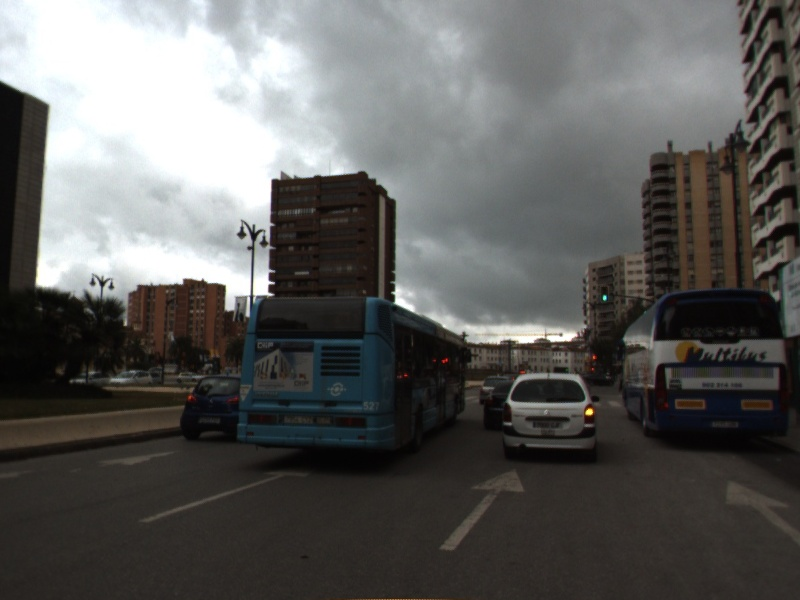STRAIGHT: (134, 465, 317, 526), (436, 466, 528, 554), (722, 477, 800, 545)
